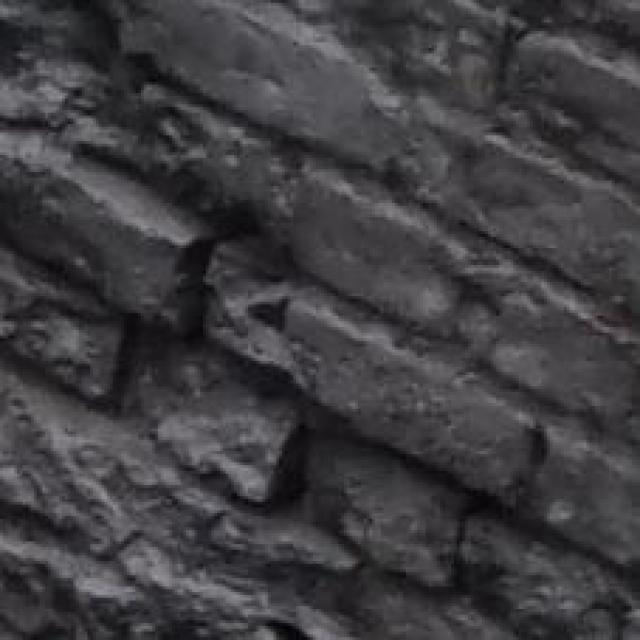Crack: (7, 43, 396, 639)
